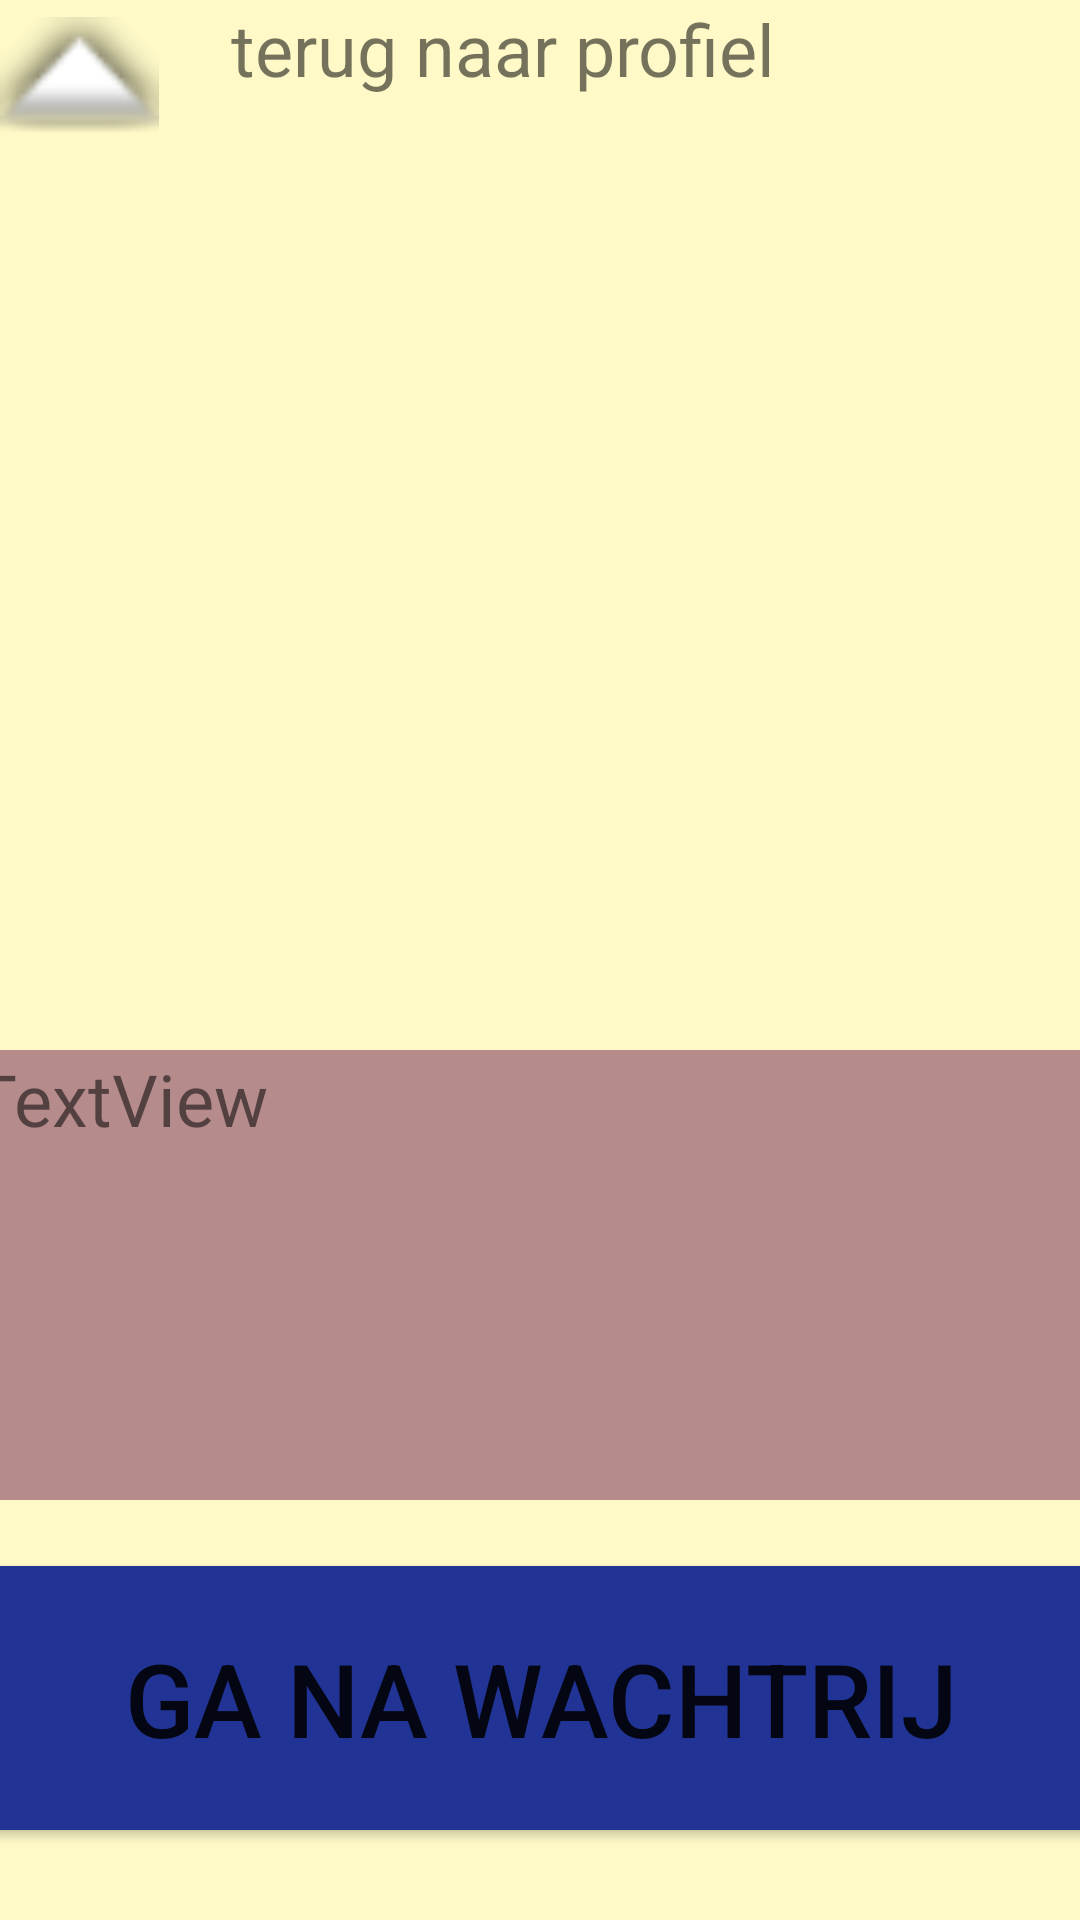

Icon bounding boxes for this 1080px×1920px phone screenshot, format region(x1, y1, x2, y2):
arrow up float: region(0, 21, 159, 129)
